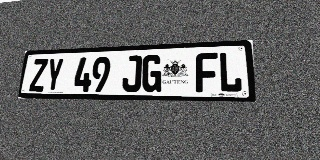4: (73, 57, 93, 92)
9: (91, 56, 111, 92)
F: (196, 52, 218, 92)
G: (141, 54, 162, 92)
J: (122, 55, 142, 92)
L: (218, 52, 243, 93)
Y: (44, 58, 64, 92)
Z: (29, 59, 48, 92)
